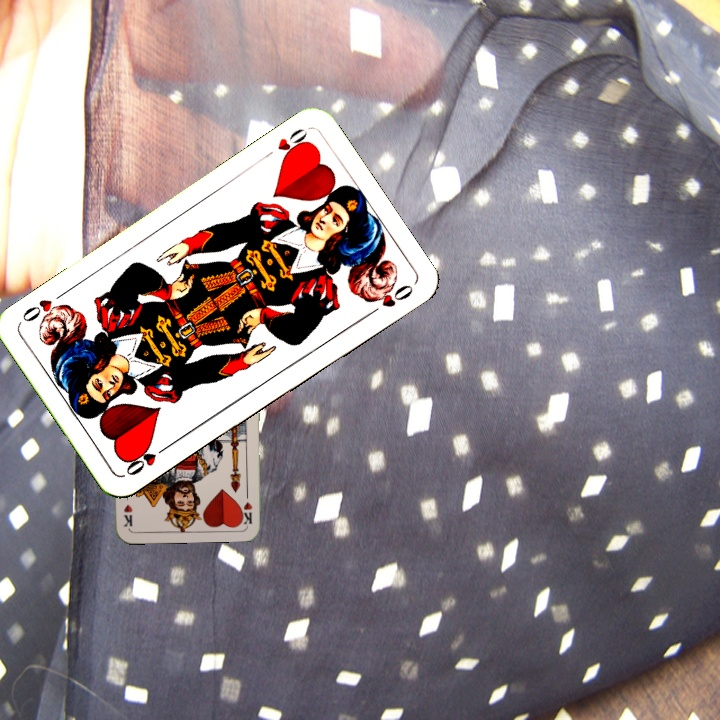HK: (238, 485, 255, 525)
HO: (258, 124, 313, 164), (121, 440, 173, 479)
